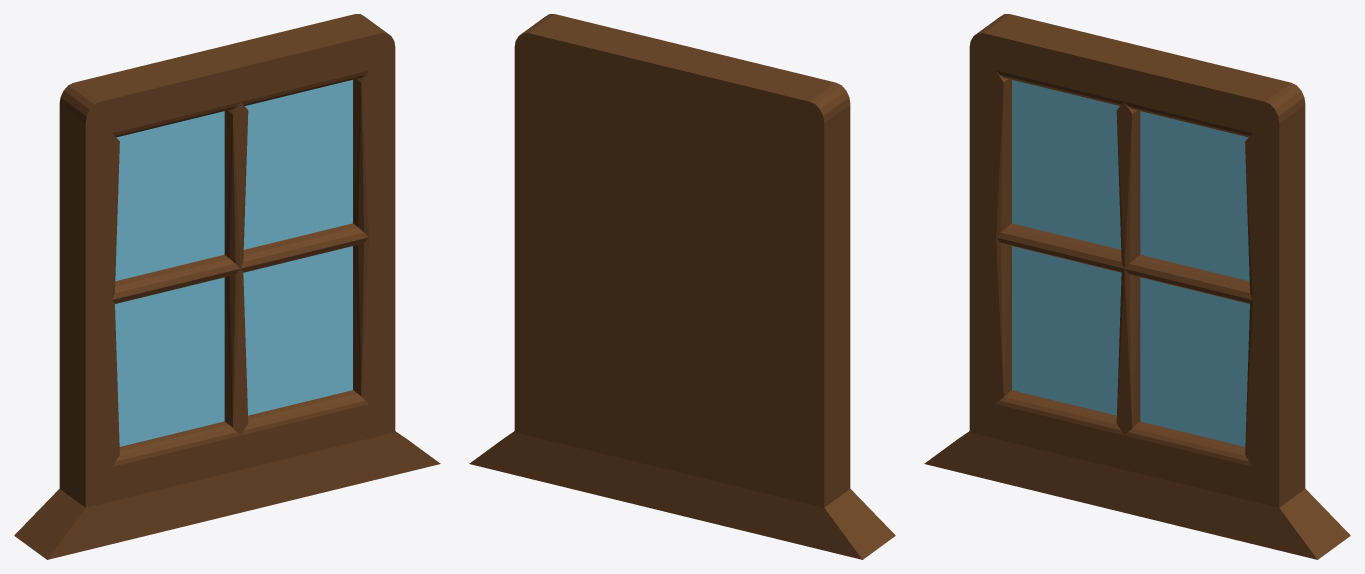
The model's file is Ventana.fbx.
3 renders of one model, left to right at view 1: azimuth 30°, elevation 25°; view 2: azimuth 150°, elevation 25°; view 3: azimuth 330°, elevation 25°, orthographic.
Visible parts, largest first — view 1: Ventana; view 2: Ventana; view 3: Ventana.
Part boxes in pixels (bbox=[...]): Ventana: bbox=[14, 14, 440, 559]; Ventana: bbox=[469, 14, 895, 559]; Ventana: bbox=[924, 14, 1350, 559].
Size of the model in its own units: 3361 by 3604 by 491.
